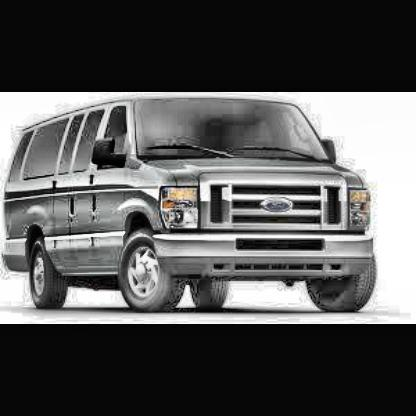Ford E-Series Wagon Van 2012: (6, 97, 374, 313)
